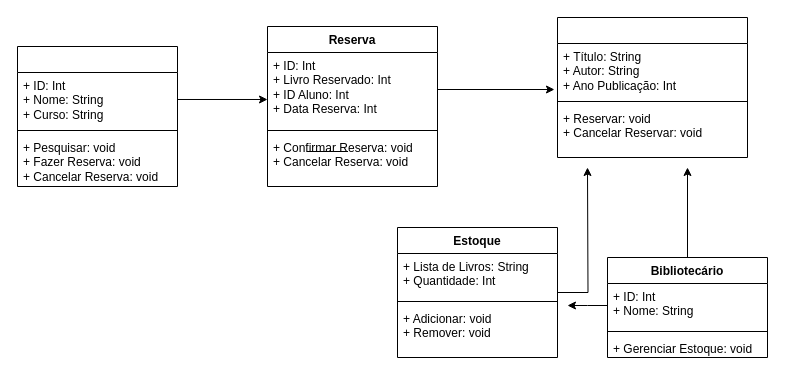
The diagram is 785 pixels wide and 378 high, and some of its shapes have lost their labels. The box of each missing label's shape, as (x1, y1, x2, y2) in pixels:
Aluno: (16, 46, 178, 186)
Livro: (556, 16, 748, 158)
